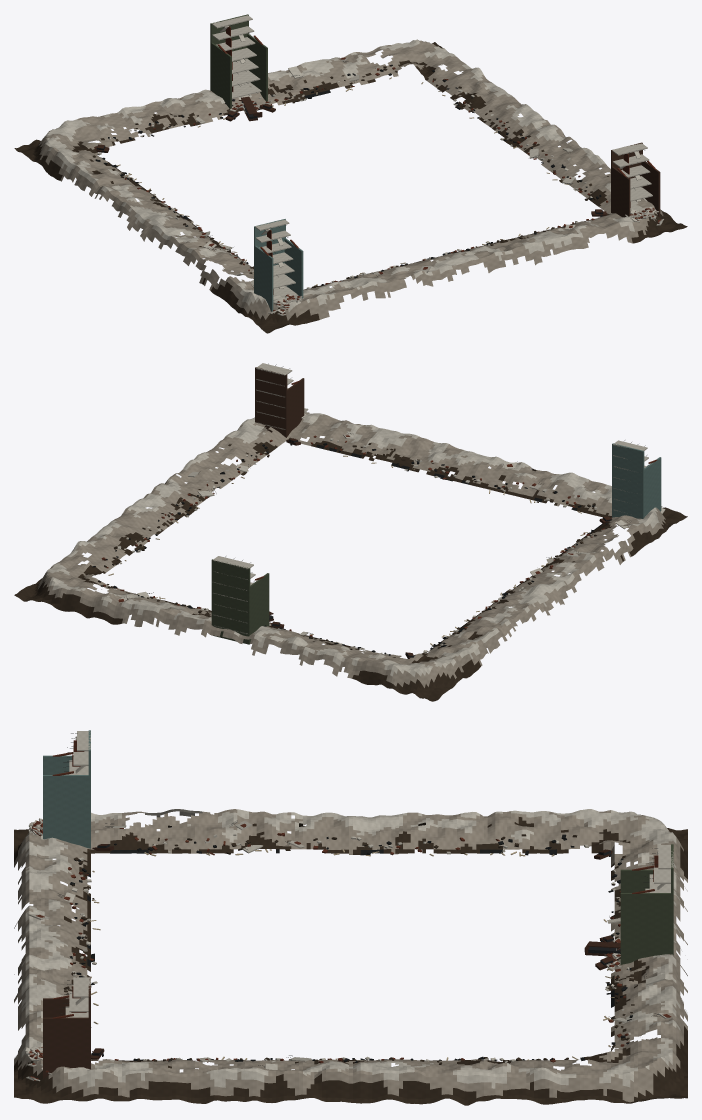
File: shanghai-limites-v001.glb
3 renders of one model, top to bottom at view 1: azimuth 30°, elevation 25°; view 2: azimuth 150°, elevation 25°; view 3: azimuth 270°, elevation 25°, orthographic. The views are drawn at different scales.
Visible parts, largest first — view 1: Limite_Terreno_entulho, Limite_Terreno_concreto, Limite_Terreno_terra, Ruina_Frente_Centro_bege, Ruina_Fundo_Oeste_azul, Ruina_Frente_Centro_concreto, Ruina_Fundo_Leste_terracota, Ruina_Fundo_Oeste_concreto, Ruina_Fundo_Leste_concreto, Limite_Detritos_concreto, Limite_Detritos_veiculo_ferrugem, Limite_Detritos_terra (+2 smaller); view 2: Limite_Terreno_entulho, Limite_Terreno_concreto, Limite_Terreno_terra, Ruina_Frente_Centro_bege, Ruina_Fundo_Oeste_azul, Ruina_Fundo_Leste_terracota, Limite_Detritos_concreto, Limite_Detritos_tijolo, Limite_Detritos_asfalto_quebrado, Limite_Detritos_terra, Ruina_Fundo_Leste_concreto; view 3: Limite_Terreno_entulho, Limite_Terreno_concreto, Limite_Terreno_terra, Ruina_Frente_Centro_bege, Ruina_Fundo_Oeste_azul, Ruina_Fundo_Leste_terracota, Limite_Detritos_concreto, Ruina_Fundo_Leste_concreto, Ruina_Frente_Centro_concreto, Limite_Detritos_asfalto_quebrado, Limite_Detritos_tijolo, Ruina_Fundo_Oeste_concreto (+3 smaller).
Boxes of the visible parts, bbox=[...] form: Limite_Terreno_entulho: bbox=[38, 40, 663, 320]; Limite_Terreno_concreto: bbox=[44, 39, 647, 311]; Limite_Terreno_terra: bbox=[14, 42, 687, 333]; Ruina_Frente_Centro_bege: bbox=[210, 14, 267, 108]; Ruina_Fundo_Oeste_azul: bbox=[254, 219, 303, 311]; Ruina_Frente_Centro_concreto: bbox=[212, 15, 273, 113]; Ruina_Fundo_Leste_terracota: bbox=[611, 142, 660, 217]; Ruina_Fundo_Oeste_concreto: bbox=[255, 220, 302, 315]; Ruina_Fundo_Leste_concreto: bbox=[612, 143, 663, 225]; Limite_Detritos_concreto: bbox=[97, 57, 592, 289]; Limite_Detritos_veiculo_ferrugem: bbox=[94, 96, 607, 216]; Limite_Detritos_terra: bbox=[92, 66, 596, 287]; Limite_Terreno_entulho: bbox=[37, 413, 665, 687]; Limite_Terreno_concreto: bbox=[45, 413, 659, 676]; Limite_Terreno_terra: bbox=[14, 437, 687, 701]; Ruina_Frente_Centro_bege: bbox=[211, 559, 269, 644]; Ruina_Fundo_Oeste_azul: bbox=[612, 443, 661, 518]; Ruina_Fundo_Leste_terracota: bbox=[255, 367, 304, 437]; Limite_Detritos_concreto: bbox=[114, 434, 628, 655]; Limite_Detritos_tijolo: bbox=[101, 435, 605, 645]; Limite_Detritos_asfalto_quebrado: bbox=[92, 443, 607, 655]; Limite_Detritos_terra: bbox=[104, 443, 596, 657]; Ruina_Fundo_Leste_concreto: bbox=[256, 363, 309, 429]; Limite_Terreno_entulho: bbox=[14, 809, 687, 1102]; Limite_Terreno_concreto: bbox=[21, 809, 680, 1088]; Limite_Terreno_terra: bbox=[14, 817, 687, 1105]; Ruina_Frente_Centro_bege: bbox=[620, 844, 673, 964]; Ruina_Fundo_Oeste_azul: bbox=[43, 730, 90, 848]; Ruina_Fundo_Leste_terracota: bbox=[43, 976, 90, 1079]; Limite_Detritos_concreto: bbox=[27, 820, 671, 1069]; Ruina_Fundo_Leste_concreto: bbox=[24, 977, 90, 1081]; Ruina_Frente_Centro_concreto: bbox=[604, 845, 673, 969]; Limite_Detritos_asfalto_quebrado: bbox=[69, 834, 632, 1062]; Limite_Detritos_tijolo: bbox=[36, 823, 671, 1063]; Ruina_Fundo_Oeste_concreto: bbox=[28, 731, 90, 835].
Bounding box in the file's own units: 134 × 25.76 × 140.
12 materials, 11 textured.
